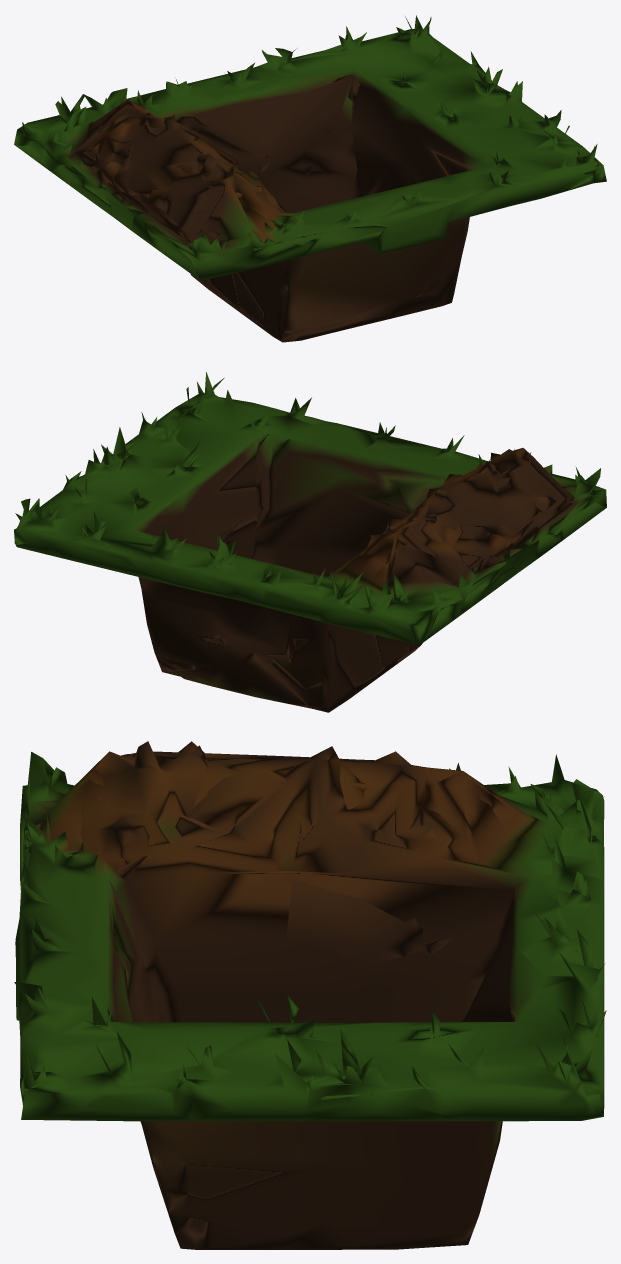
File: gen3d-open-grave-lod0.glb
3 views of the same model, one above another, from view 1: azimuth 30°, elevation 25°; view 2: azimuth 150°, elevation 25°; view 3: azimuth 270°, elevation 25° (orthographic). The views are drawn at different scales.
Parts seen in each view (by area): view 1: part_0; view 2: part_0; view 3: part_0.
Part boxes in pixels (bbox=[...]): part_0: bbox=[14, 15, 606, 342]; part_0: bbox=[14, 372, 606, 712]; part_0: bbox=[14, 741, 606, 1249].
Bounding box in the file's own units: 2.08 × 0.9889 × 1.64.
